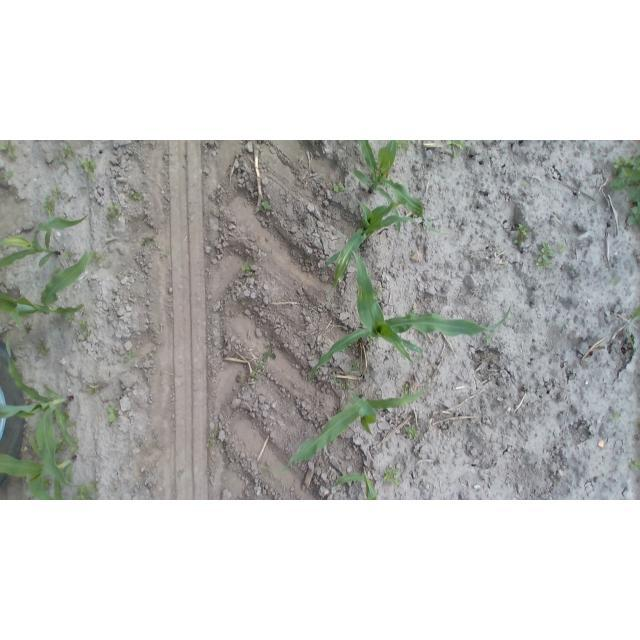Maize: (310, 247, 515, 382), (266, 384, 427, 474), (1, 331, 76, 489), (324, 198, 423, 304), (351, 141, 453, 238), (0, 251, 90, 330), (1, 213, 88, 269), (1, 439, 76, 500), (336, 472, 376, 500), (627, 300, 640, 354)
Weeds: (609, 153, 640, 192), (534, 242, 554, 270), (73, 480, 97, 501), (446, 140, 466, 161), (513, 225, 532, 246), (383, 467, 402, 486), (0, 141, 16, 160), (627, 201, 640, 223), (80, 156, 96, 172), (262, 346, 277, 363), (625, 186, 640, 202), (44, 195, 56, 214), (107, 202, 121, 218), (405, 424, 419, 440), (348, 359, 364, 373), (208, 431, 221, 448), (60, 145, 75, 159), (107, 406, 118, 422), (395, 141, 411, 152), (1, 171, 16, 182), (257, 201, 272, 212), (51, 265, 63, 277), (482, 332, 494, 344), (42, 478, 53, 491), (372, 285, 382, 299), (52, 185, 61, 200), (71, 439, 80, 454), (57, 157, 68, 169), (37, 342, 48, 354), (130, 191, 143, 201), (630, 458, 640, 471), (242, 265, 253, 276), (55, 435, 67, 445), (333, 183, 345, 193), (407, 306, 418, 316), (125, 351, 137, 360), (610, 412, 622, 421), (62, 410, 70, 422), (88, 251, 97, 261), (66, 313, 75, 323), (343, 379, 352, 389), (557, 242, 566, 252), (79, 320, 88, 329), (65, 250, 73, 260), (81, 332, 91, 340), (22, 323, 30, 333), (56, 446, 64, 455), (251, 371, 260, 379), (142, 238, 151, 246), (611, 277, 618, 287), (90, 172, 97, 181), (69, 421, 76, 430), (345, 398, 355, 404), (404, 383, 409, 395), (368, 336, 375, 344), (333, 376, 340, 383), (256, 363, 264, 369), (418, 356, 424, 364), (99, 255, 105, 261), (88, 387, 94, 393), (52, 410, 56, 419), (340, 405, 346, 411), (355, 391, 361, 397), (361, 210, 365, 219), (160, 252, 166, 258), (112, 488, 117, 493), (522, 180, 527, 185)
